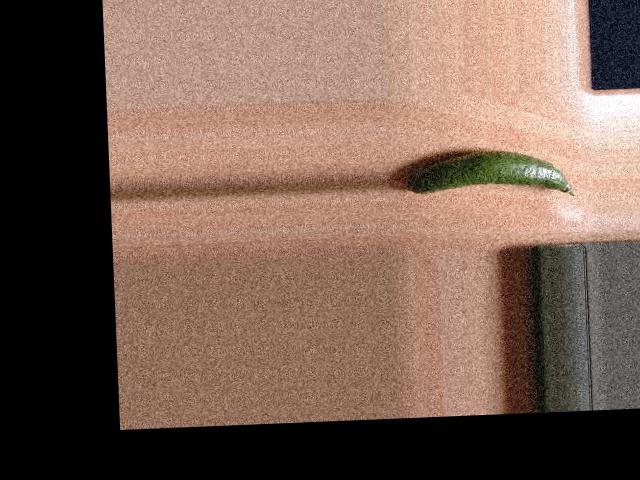cucumber: (404, 146, 576, 202)
